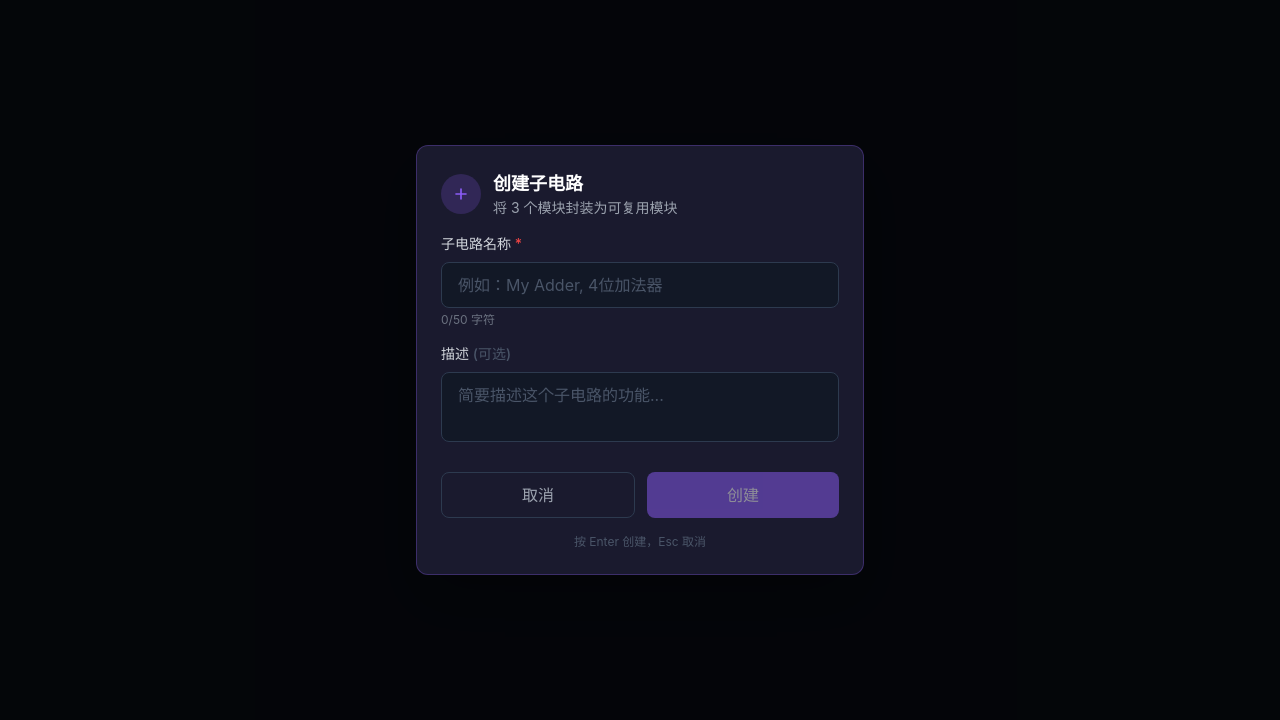
Test: Error Handling Integration › Error handling in sub-circuit creation › should show error when at max limit after clicking create
This screenshot has width=1280, height=720.
Type "At Limit" into the field labelled "子电路名称 *" at point(640, 285), box [441,262,839,308]
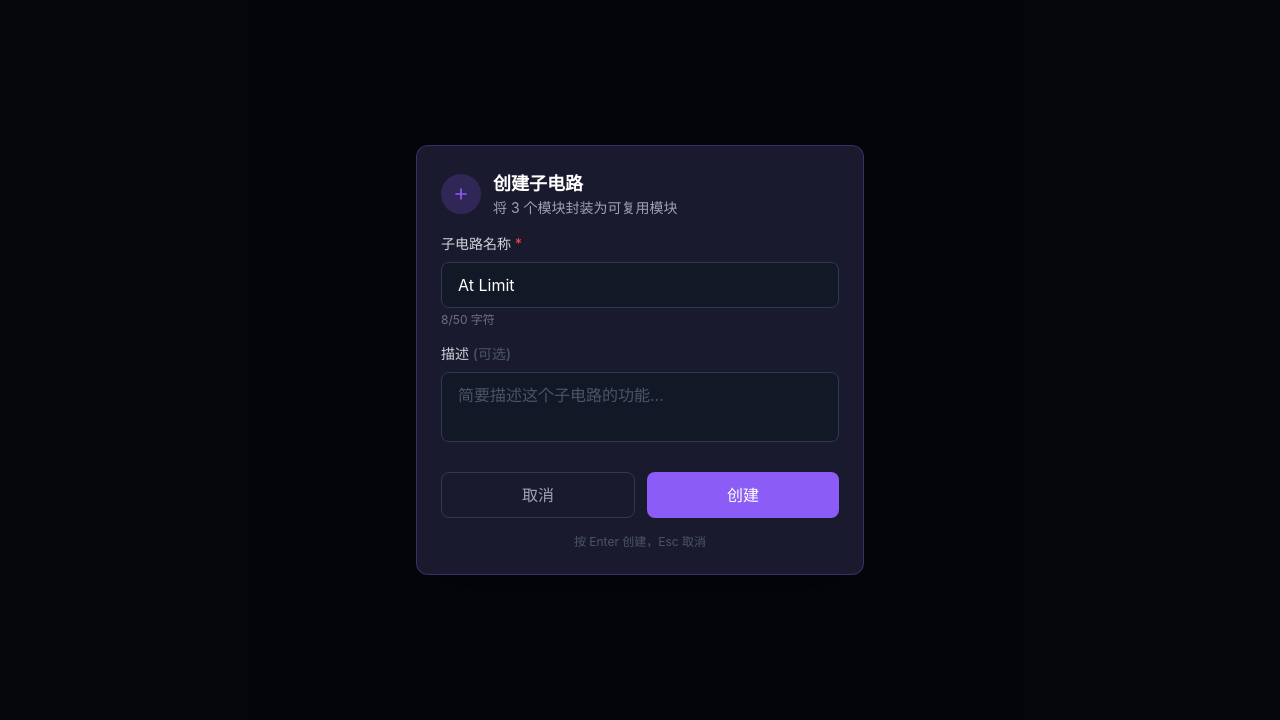
Click the button "创建" at point(743, 495), box [647,472,839,518]
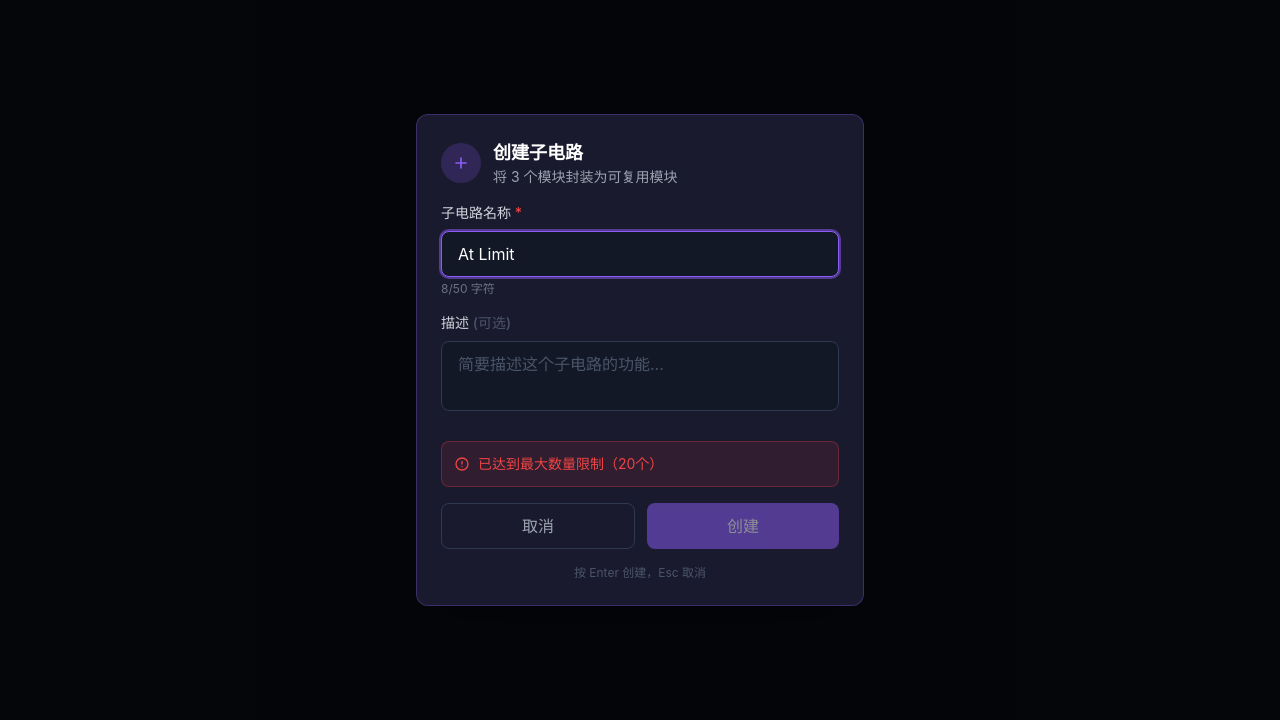
Now the text "已达到最大数量限制（20个）" is shown, box [454,455,663,472]
